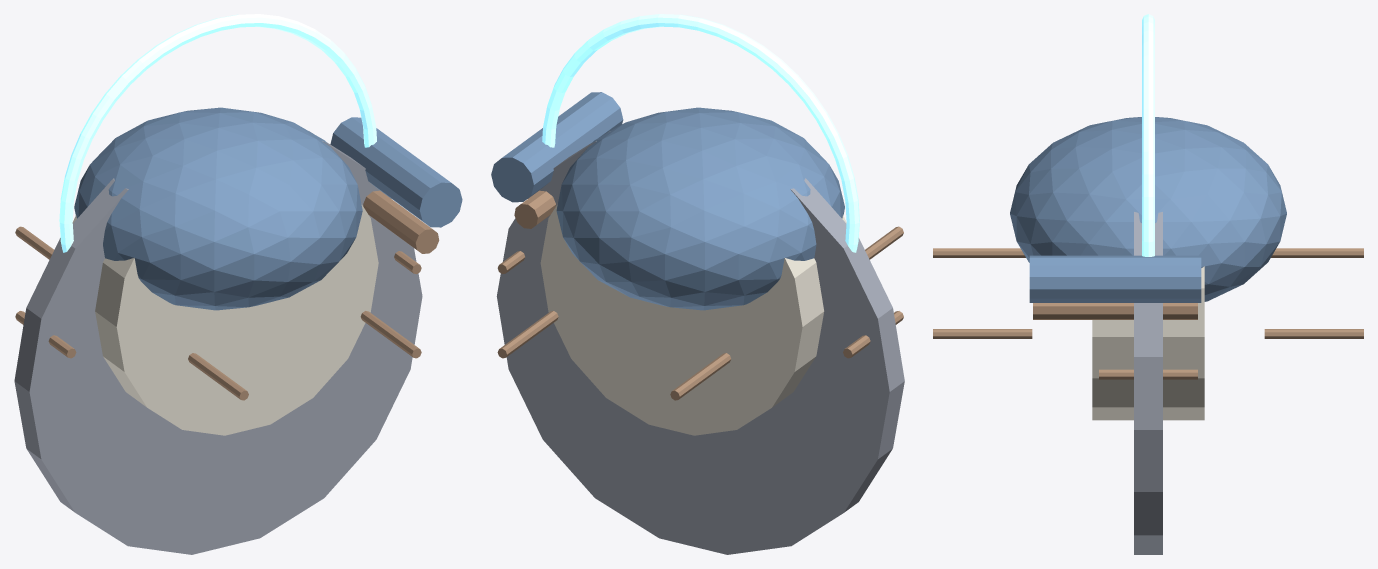
Rendered from hero_observatory.glb.
3 views of the same model, side by side, from view 1: azimuth 30°, elevation 25°; view 2: azimuth 150°, elevation 25°; view 3: azimuth 270°, elevation 25° (orthographic). The views are drawn at different scales.
Parts seen in each view (by area): view 1: world; view 2: world; view 3: world.
Boxes of the visible parts, x1,y1,x2,y2 form: world: (14,14,462,554); world: (491,14,904,554); world: (933,14,1363,554).
Size of the model in its own units: 3.3 by 4.19 by 3.26.
